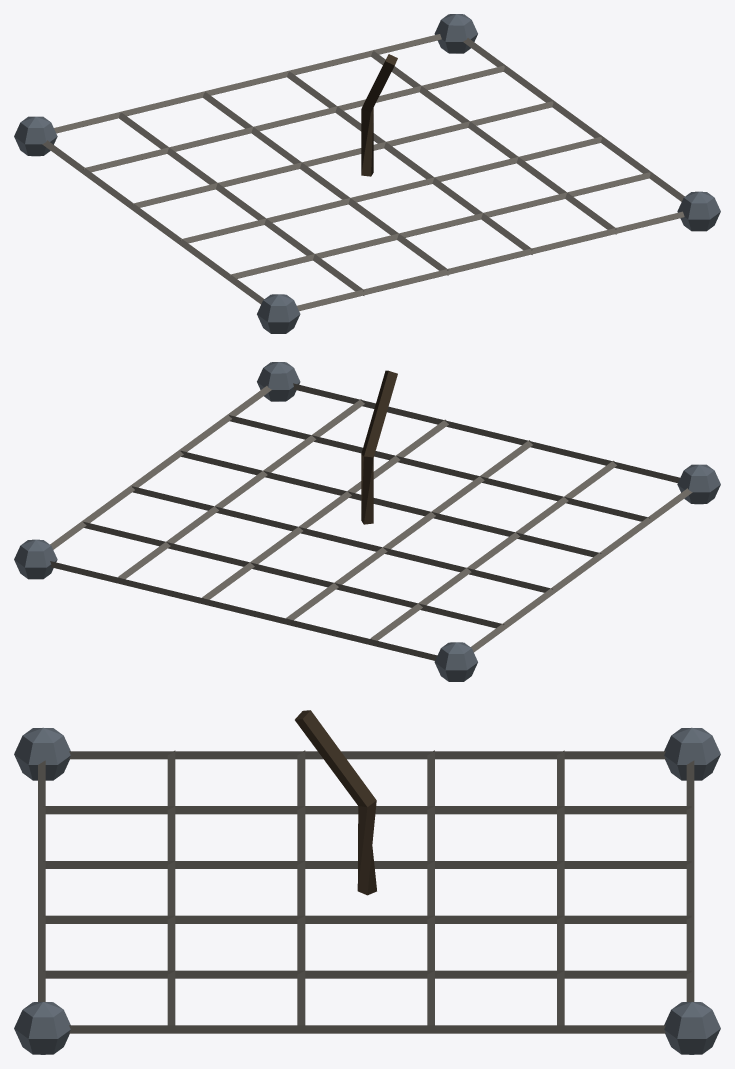
Rendered from net.glb.
3 renders of one model, top to bottom at view 1: azimuth 30°, elevation 25°; view 2: azimuth 150°, elevation 25°; view 3: azimuth 270°, elevation 25°, orthographic. The views are drawn at different scales.
Visible parts, largest first — view 1: m; view 2: m; view 3: m.
Boxes of the visible parts, <box> form: m: <box>14,14,720,333</box>; m: <box>14,362,720,681</box>; m: <box>14,710,720,1054</box>.
Bounding box in the file's own units: 0.2 × 0.0656 × 0.2022.
